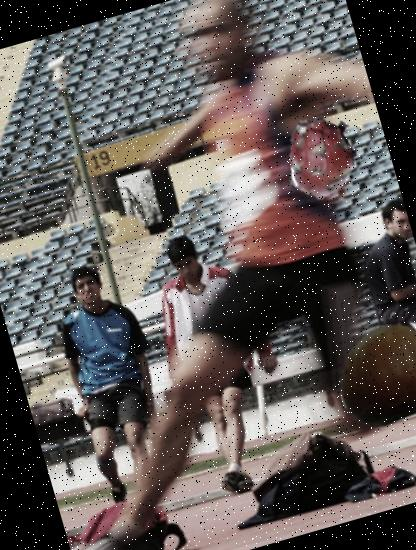Nut: (321, 302, 416, 442)
Pitahaya: (270, 105, 373, 208)
